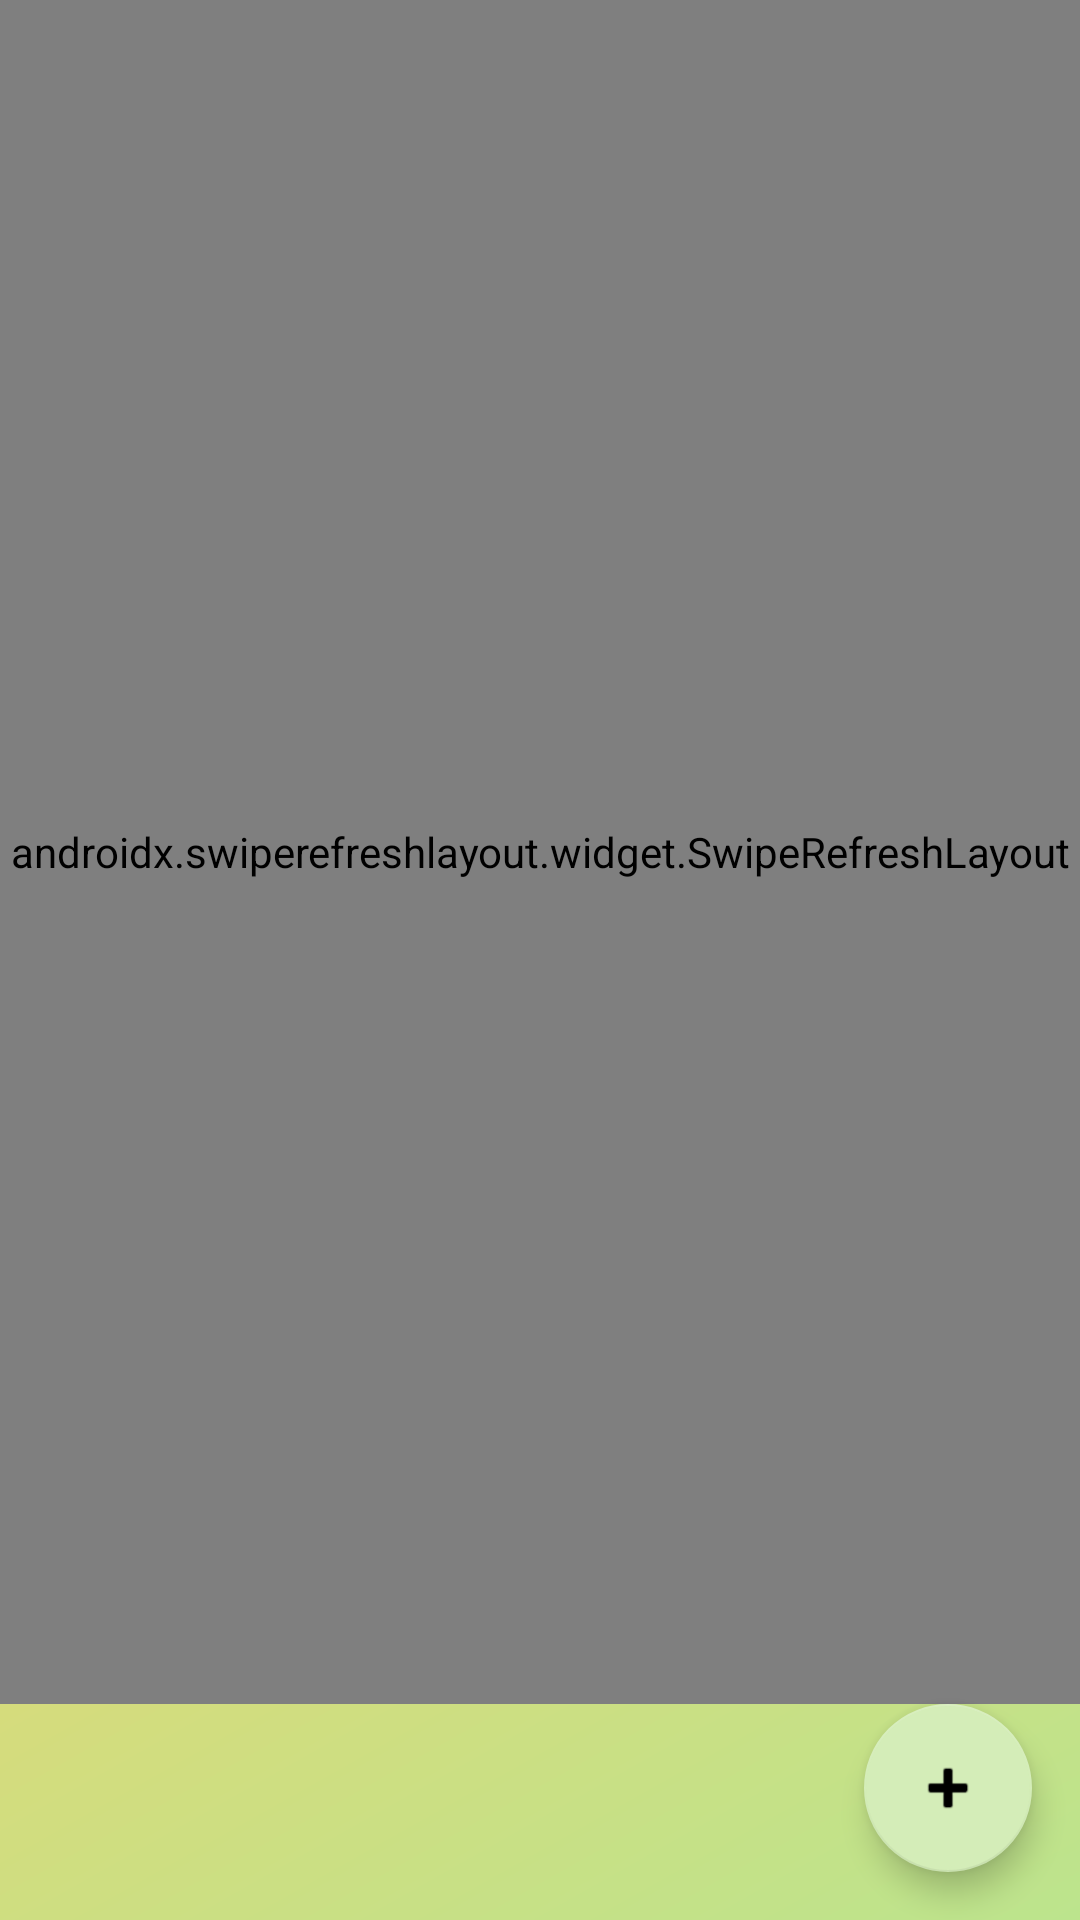

Icon click points for this 1080 × 1920 phone screenshot, format point (x, y):
Add Patient: point (948, 1788)
